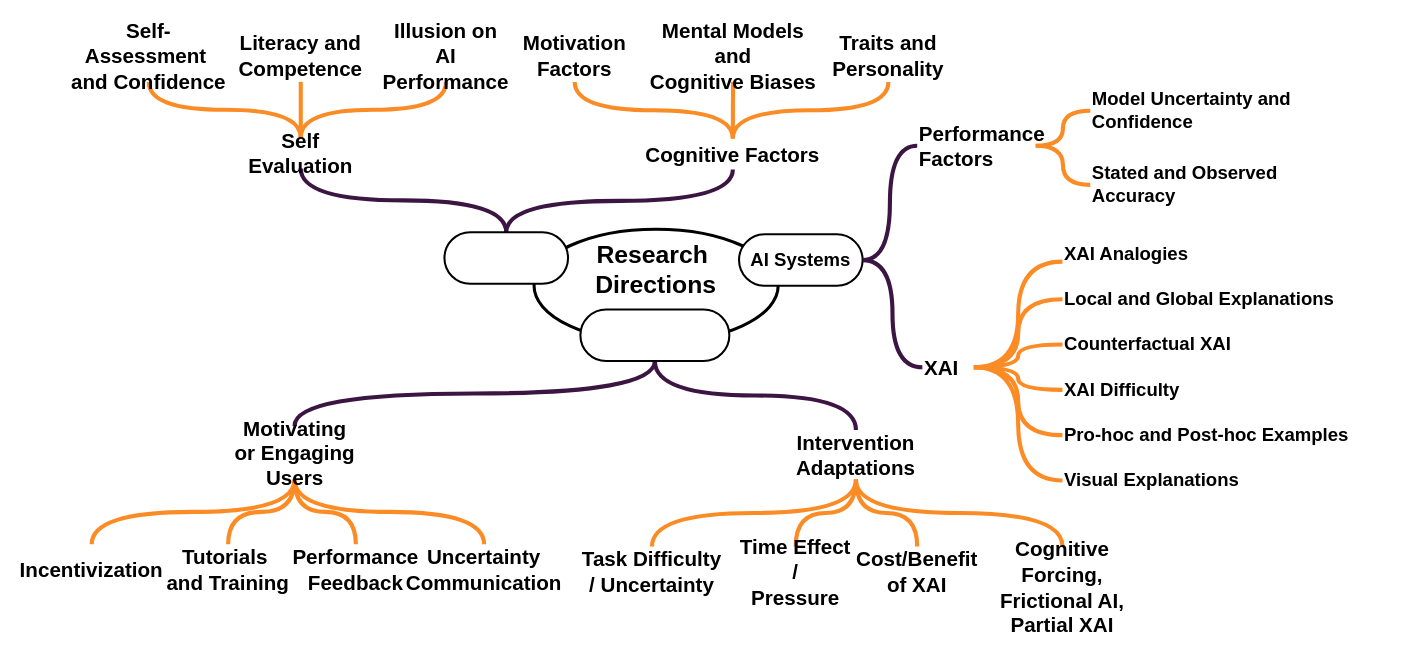
Some shapes in this 1409 by 655 pixel diagram are drawn without their labels. The shapes that lost their labels are listed below. From the top down, each one's centre as x and y in pixels, then its label:
At (506,257): "User Factors".
At (654,335): "Interaction Factors".
